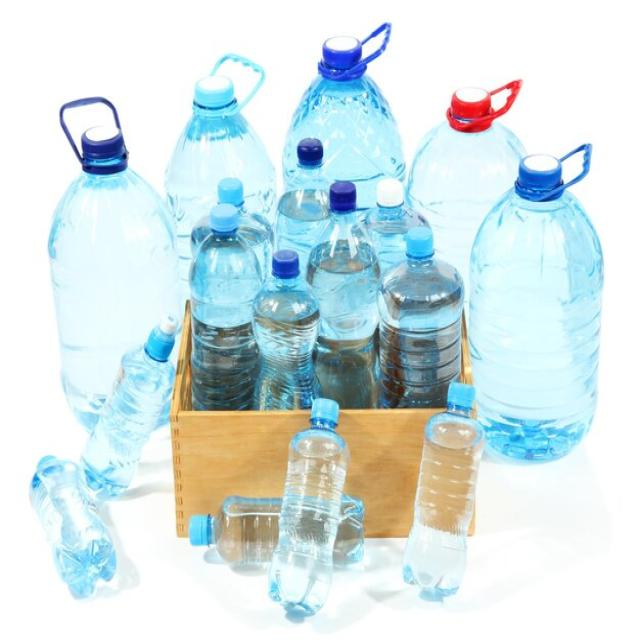plastic_bottle: (29, 130, 178, 432), (463, 140, 594, 452), (274, 31, 390, 287), (180, 60, 295, 290), (256, 390, 361, 620), (398, 397, 495, 603), (177, 206, 270, 405), (314, 172, 386, 408), (382, 225, 462, 418), (263, 246, 315, 396)
